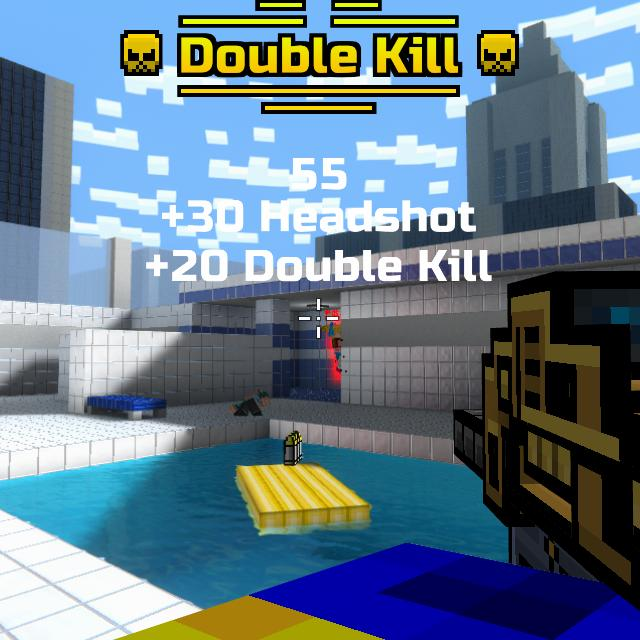Enemy: (332, 325, 343, 373)
